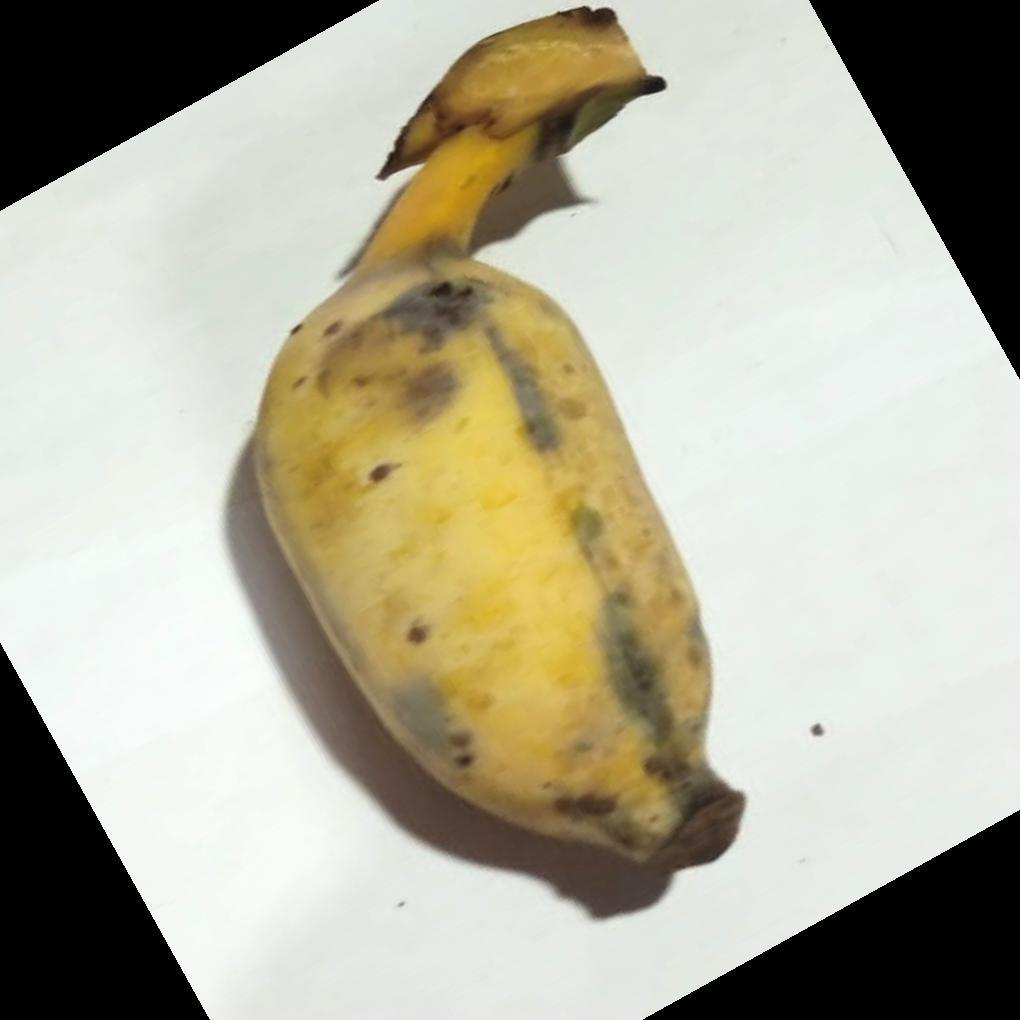Banana Ripe: (238, 13, 707, 910)
